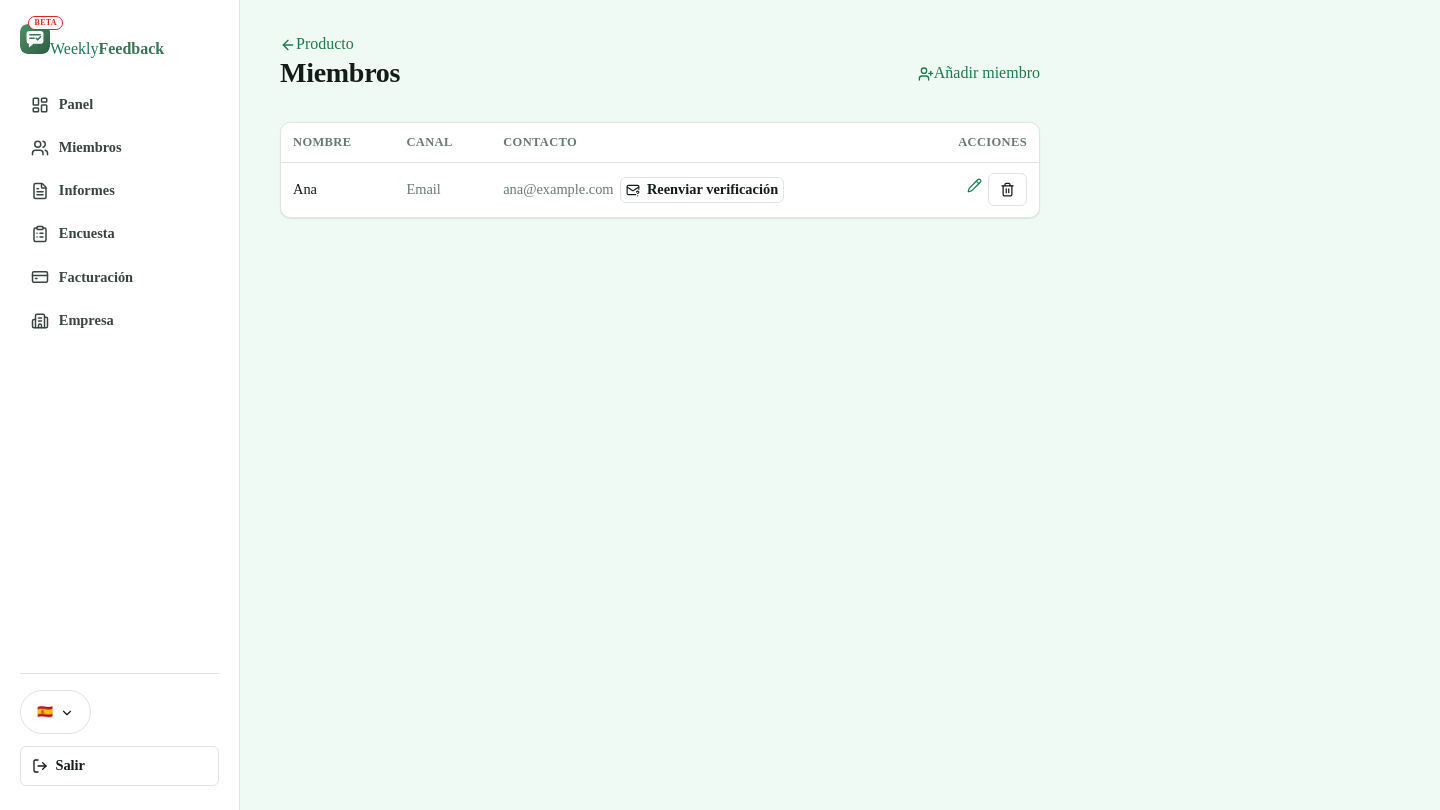
Test case: TeamMembersPage › email sin verificar: ofrece reenviar, y cambia a "Enviado" tras hacerlo
Click the button "Reenviar verificación".
click(702, 190)  # box [620, 177, 784, 203]
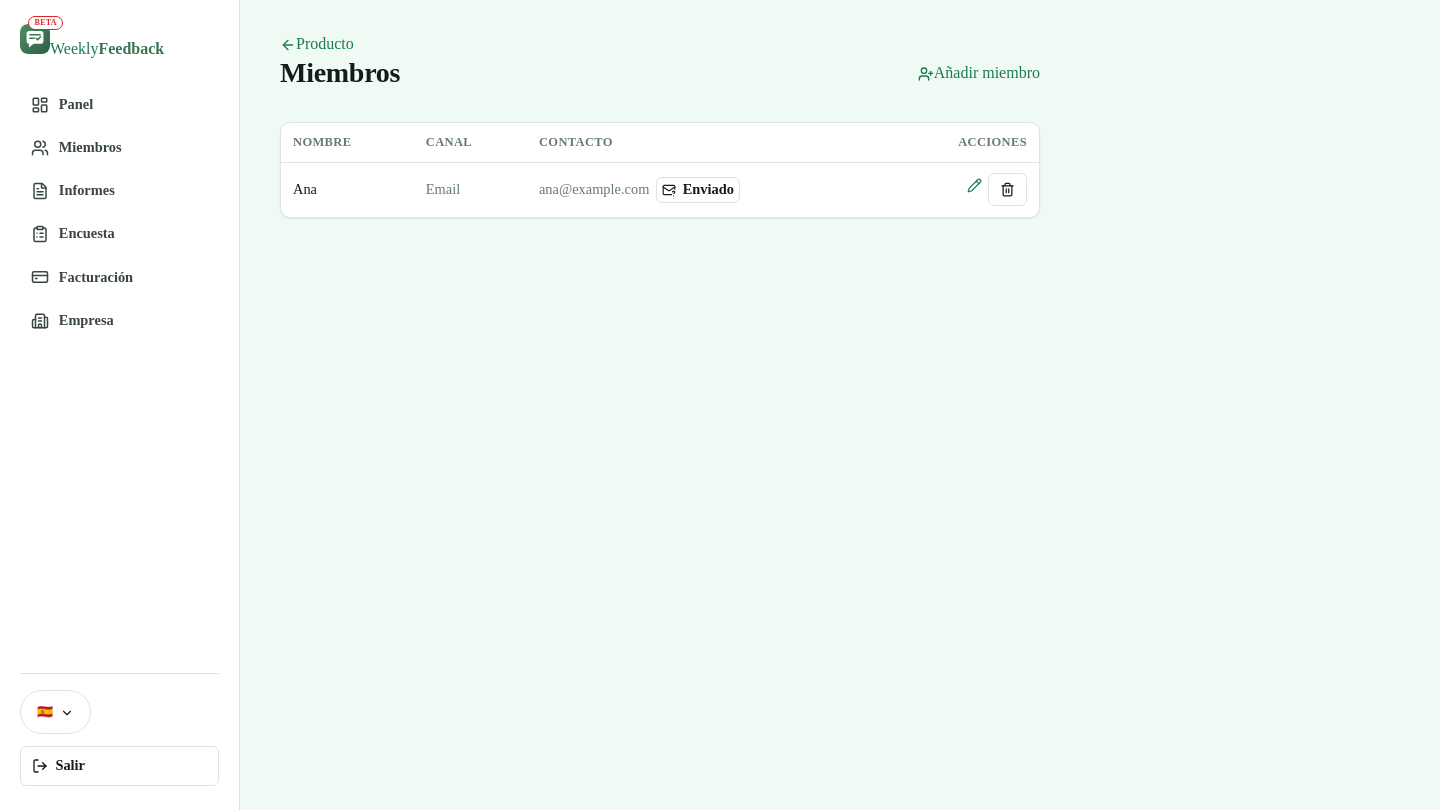
Result: the button "Enviado" is shown at [656, 177, 740, 203]
